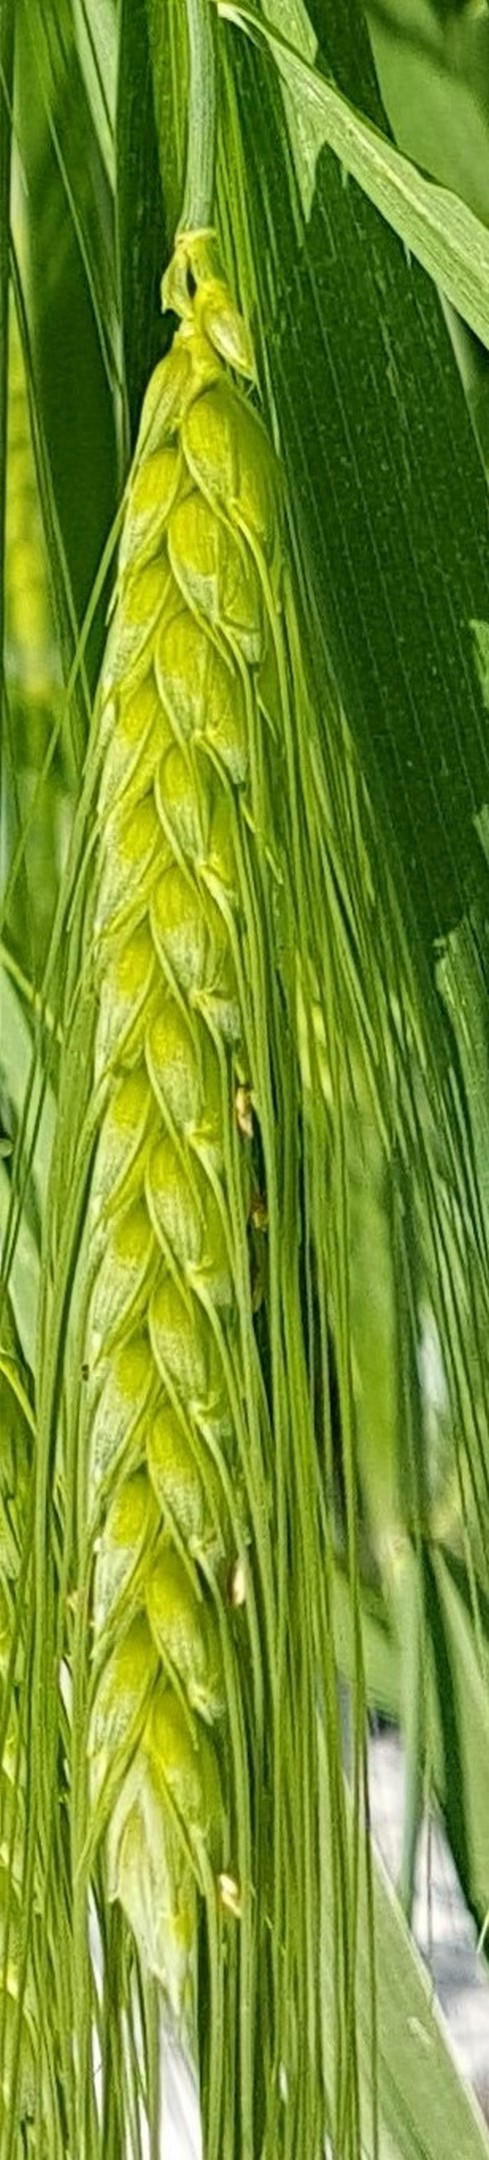Healthy Wheat: (39, 324, 315, 1982)
